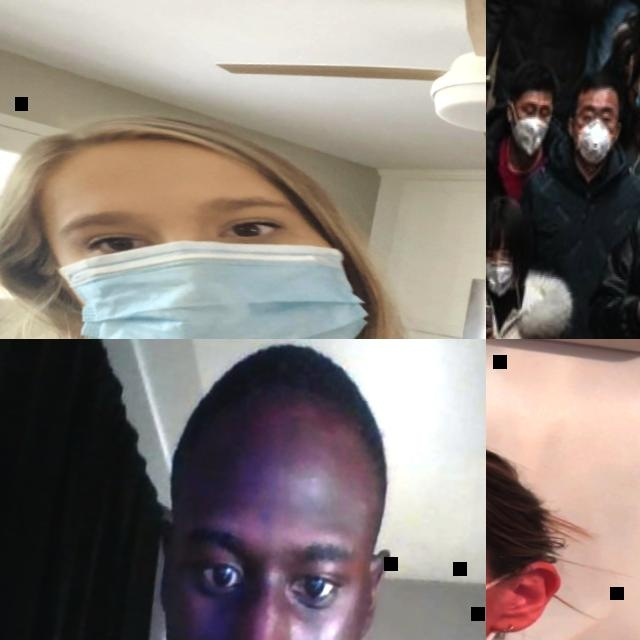Mask: (38, 211, 373, 339), (568, 114, 619, 166), (506, 109, 550, 155), (486, 259, 514, 297), (632, 83, 640, 120)
NO-Hardhat: (171, 339, 408, 490), (3, 103, 298, 222), (486, 188, 530, 249), (573, 61, 625, 103), (509, 58, 561, 98), (631, 37, 640, 72)
NO-Safety Vest: (507, 159, 640, 339), (496, 0, 589, 72), (611, 207, 640, 339), (486, 140, 532, 221), (608, 113, 640, 209)
Person: (0, 339, 486, 640), (0, 89, 486, 339), (486, 52, 640, 339), (486, 369, 640, 640), (486, 55, 584, 268), (486, 181, 594, 339), (486, 0, 614, 130), (578, 105, 640, 339), (597, 31, 640, 216), (599, 0, 640, 134), (596, 0, 640, 59)
